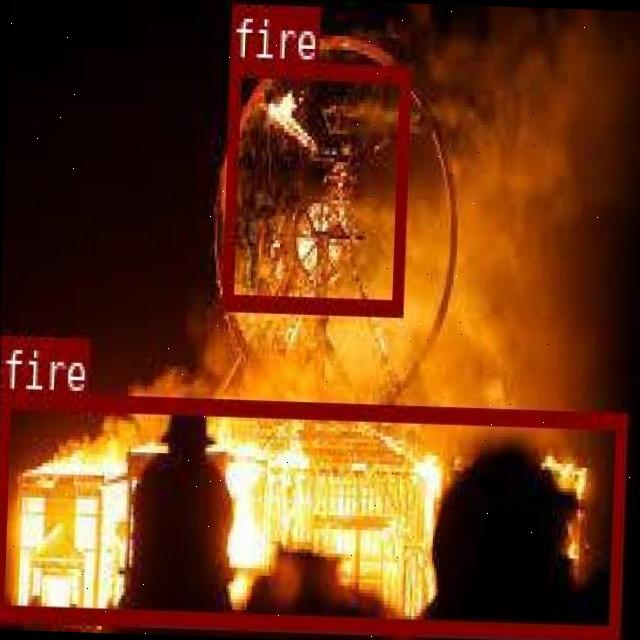fire: (0, 388, 625, 638), (220, 59, 409, 312)
